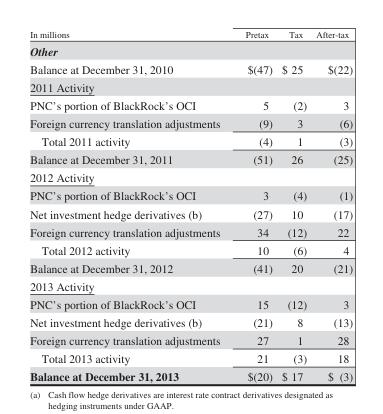table: (29, 28, 352, 382)
table column: (29, 28, 232, 382), (232, 28, 276, 382), (310, 28, 352, 382), (276, 28, 310, 382)
table column header: (29, 28, 352, 41)
table projected row header: (29, 77, 352, 96), (29, 41, 352, 59), (29, 168, 352, 186), (29, 276, 352, 294)
table row: (29, 77, 352, 96), (29, 294, 352, 313), (29, 41, 352, 59), (29, 59, 352, 77), (29, 96, 352, 114), (29, 114, 352, 132), (29, 132, 352, 150), (29, 150, 352, 168), (29, 168, 352, 186), (29, 186, 352, 204), (29, 204, 352, 222), (29, 222, 352, 240), (29, 240, 352, 258), (29, 258, 352, 276), (29, 276, 352, 294), (29, 313, 352, 331), (29, 331, 352, 349), (29, 349, 352, 367), (29, 367, 352, 382), (29, 28, 352, 41)
